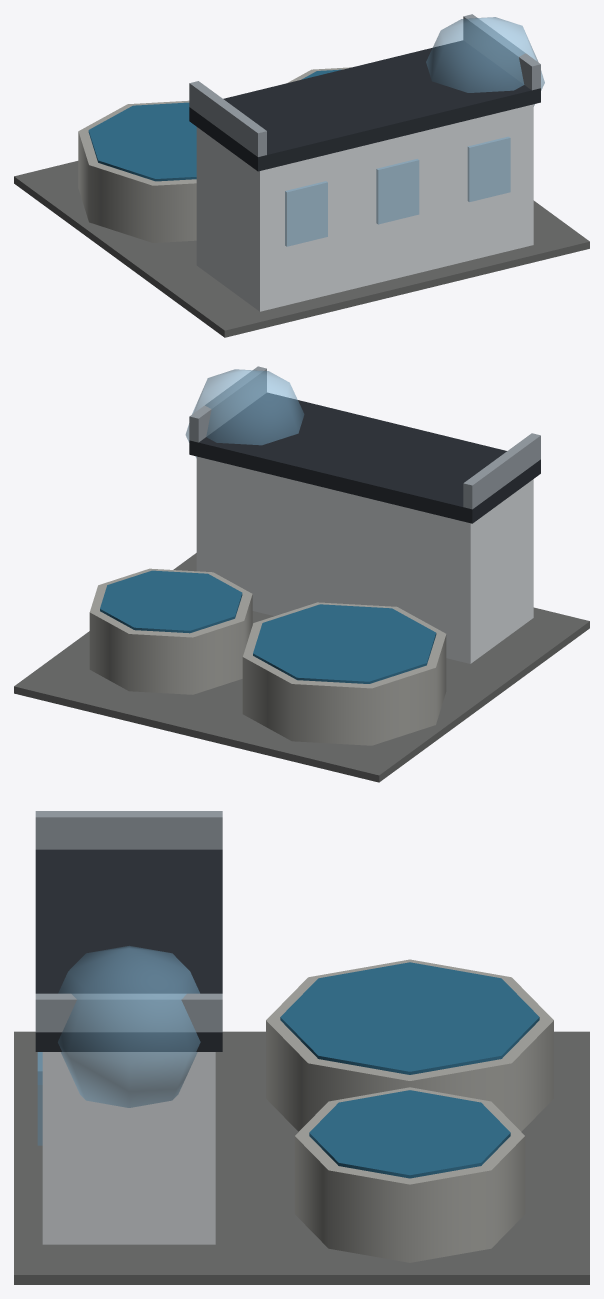
File: bld_special_water_works_a08_lod1.glb
3 renders of one model, top to bottom at view 1: azimuth 30°, elevation 25°; view 2: azimuth 150°, elevation 25°; view 3: azimuth 270°, elevation 25°, orthographic. The views are drawn at different scales.
Visible parts, largest first — view 1: body; view 2: body; view 3: body.
Part boxes in pixels (bbox=[...]): body: bbox=[14, 14, 589, 337]; body: bbox=[14, 366, 589, 782]; body: bbox=[14, 811, 589, 1284].
Bounding box in the file's own units: 8 × 4.5 × 8.
